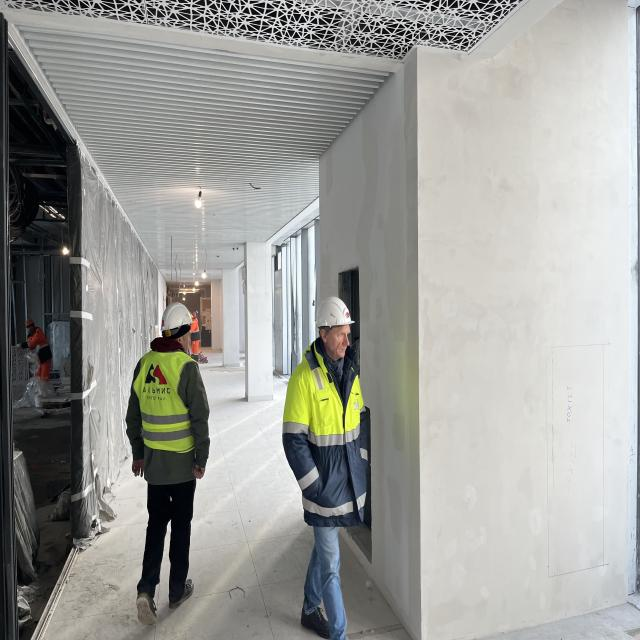Helmet: (314, 296, 355, 331), (161, 304, 194, 335), (27, 320, 36, 328)
Jacket: (291, 355, 363, 446), (140, 350, 191, 452), (30, 332, 47, 362), (193, 319, 200, 342)
